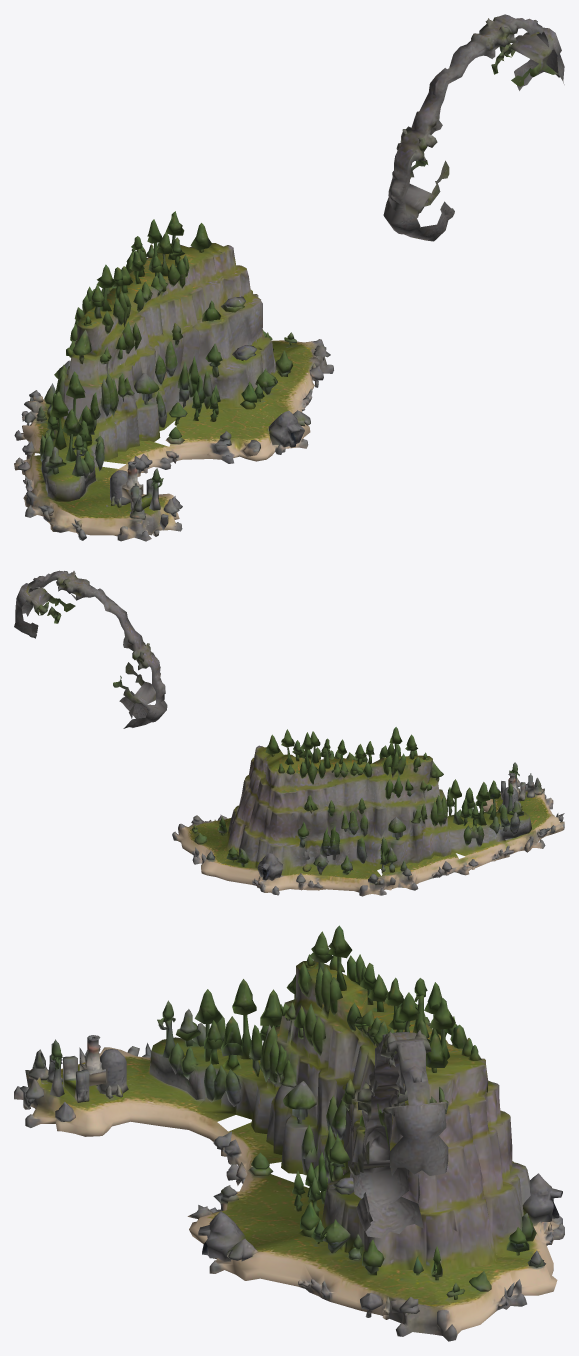
File: isle_01_p1.glb
The picture shows the model from 3 angles, top to bottom: view 1: azimuth 30°, elevation 25°; view 2: azimuth 150°, elevation 25°; view 3: azimuth 270°, elevation 25°; orthographic projection. The views are drawn at different scales.
Parts seen in each view (by area): view 1: tripo_node_fdc364b9-f19c-442f-97e5-cc2f889eb60a; view 2: tripo_node_fdc364b9-f19c-442f-97e5-cc2f889eb60a; view 3: tripo_node_fdc364b9-f19c-442f-97e5-cc2f889eb60a.
Boxes of the visible parts, x1=… form: tripo_node_fdc364b9-f19c-442f-97e5-cc2f889eb60a: x1=14, y1=14, x2=564, y2=541; tripo_node_fdc364b9-f19c-442f-97e5-cc2f889eb60a: x1=14, y1=570, x2=564, y2=896; tripo_node_fdc364b9-f19c-442f-97e5-cc2f889eb60a: x1=14, y1=925, x2=564, y2=1341.
Bounding box in the file's own units: 0.998 × 0.4746 × 0.5723.
1 material, 1 textured.
